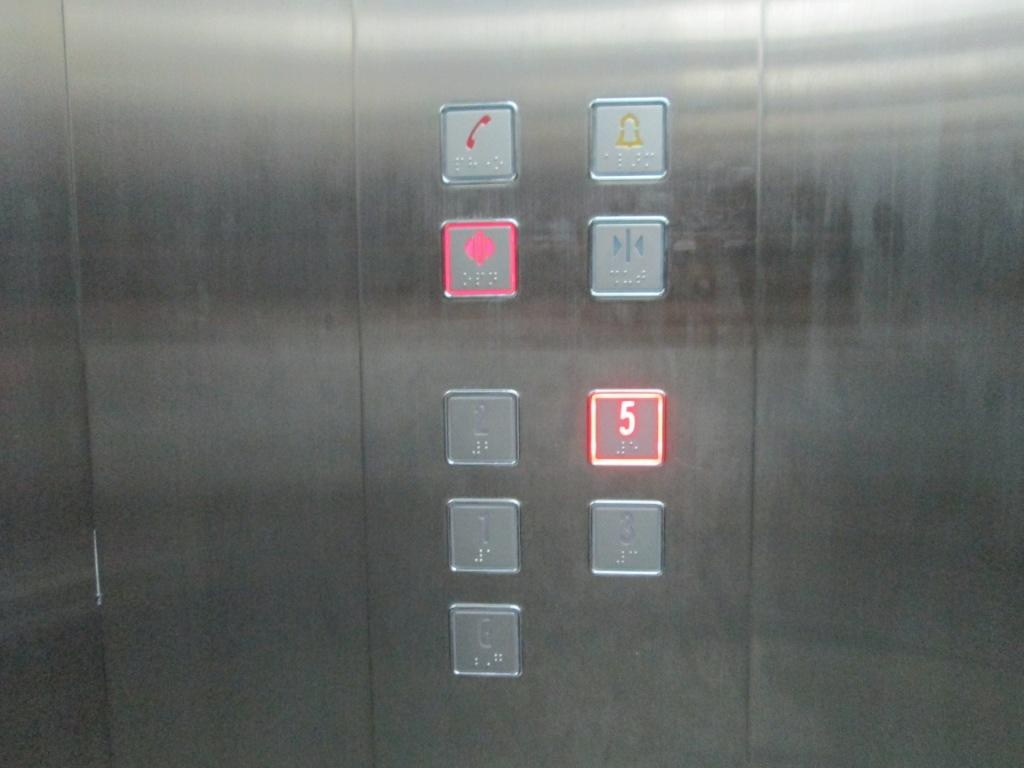1: (444, 493, 523, 578)
2: (440, 387, 521, 470)
3: (585, 494, 666, 578)
5: (585, 385, 669, 473)
G: (445, 597, 529, 681)
alarm: (585, 92, 672, 185)
call: (433, 99, 523, 189)
close: (583, 212, 674, 302)
open: (437, 216, 523, 301)
